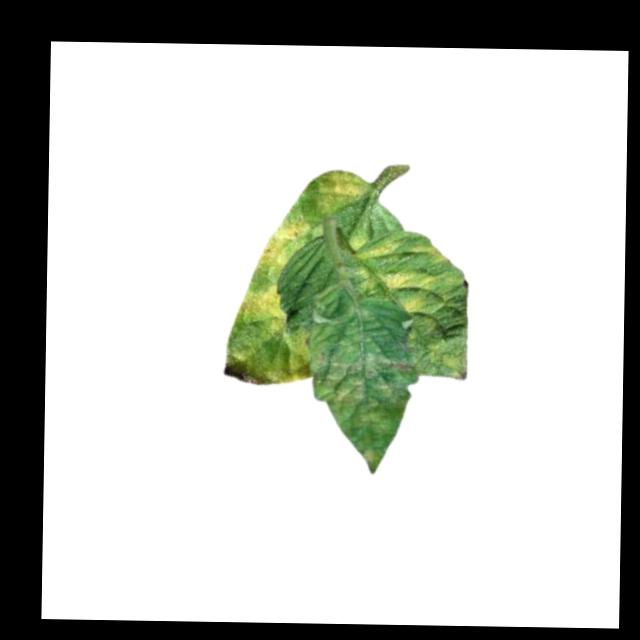Leaf_Mold: (315, 350, 421, 472), (362, 234, 448, 313), (222, 335, 318, 387), (253, 218, 307, 279), (235, 285, 294, 337), (315, 167, 365, 219)
